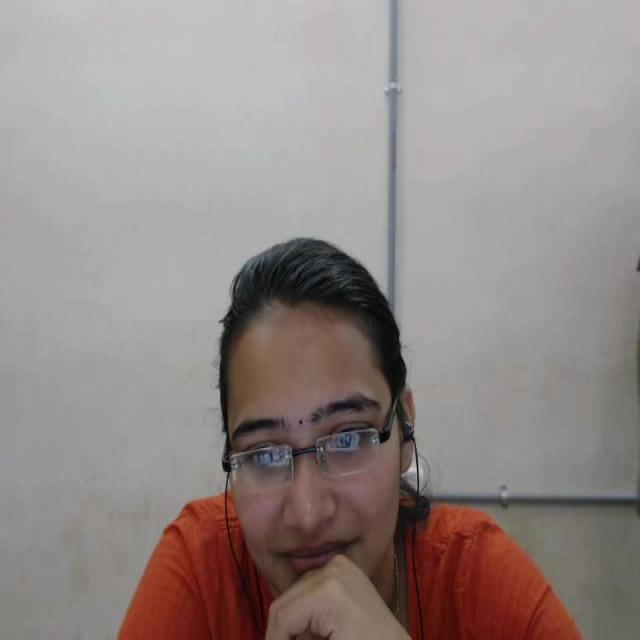Engaged: (174, 205, 442, 636)
